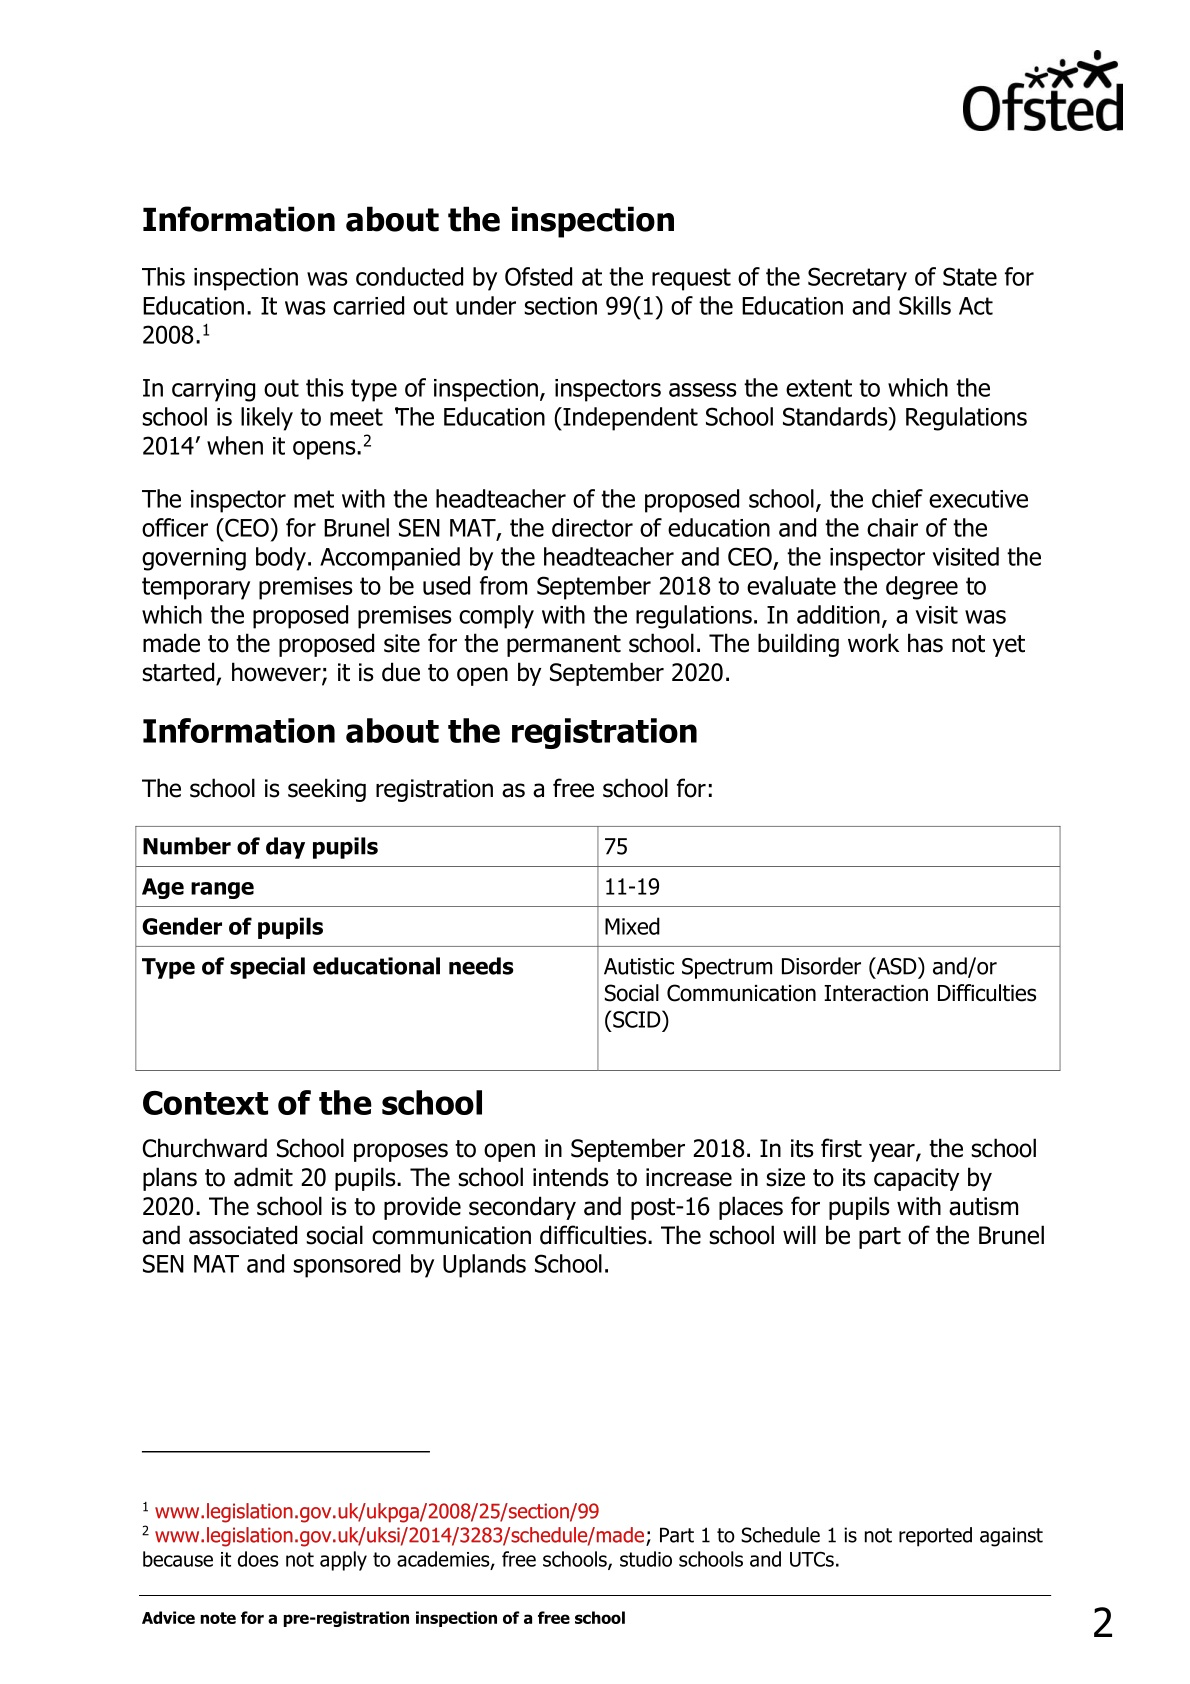full_lined: (134, 824, 1061, 1071)
